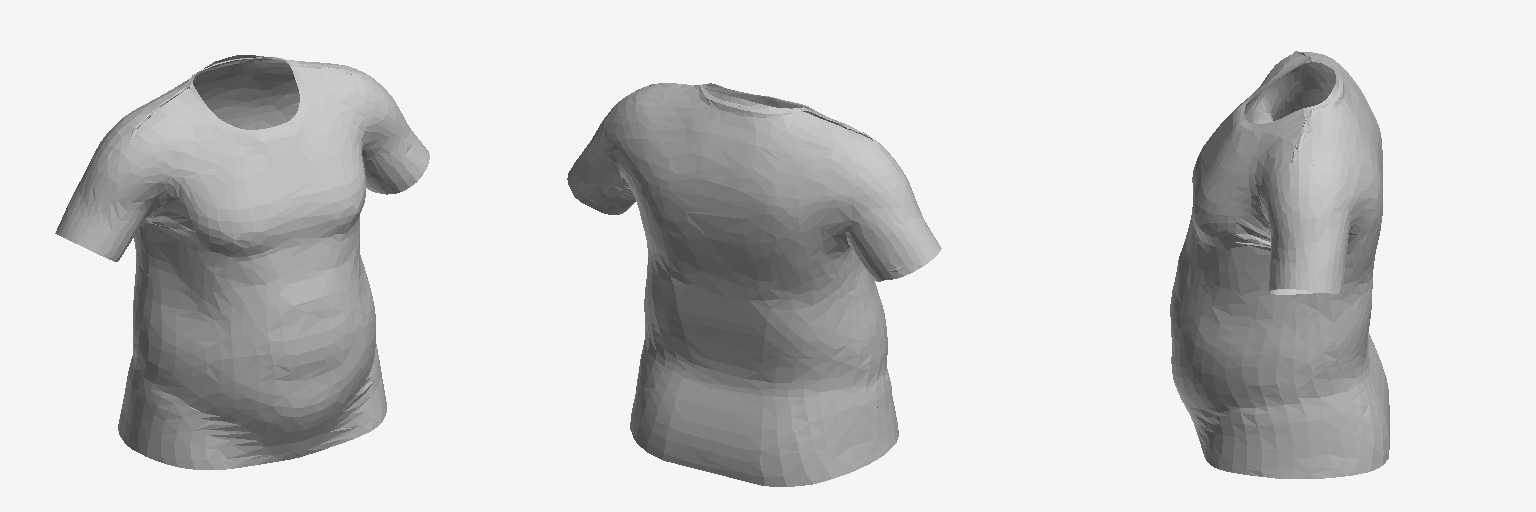
Rendered from md_fat_cloth_d_scaled.obj.
The picture shows the model from 3 angles: view 1: azimuth 30°, elevation 25°; view 2: azimuth 150°, elevation 25°; view 3: azimuth 270°, elevation 25°; orthographic projection.
Parts seen in each view (by area): view 1: md_fat_cloth:Mesh1; view 2: md_fat_cloth:Mesh1; view 3: md_fat_cloth:Mesh1.
Part boxes in pixels (x1,y1,x2,y2): md_fat_cloth:Mesh1: (55,55,429,469); md_fat_cloth:Mesh1: (567,83,941,486); md_fat_cloth:Mesh1: (1170,51,1389,478).
Size of the model in its own units: 2.23 by 2.09 by 1.16.